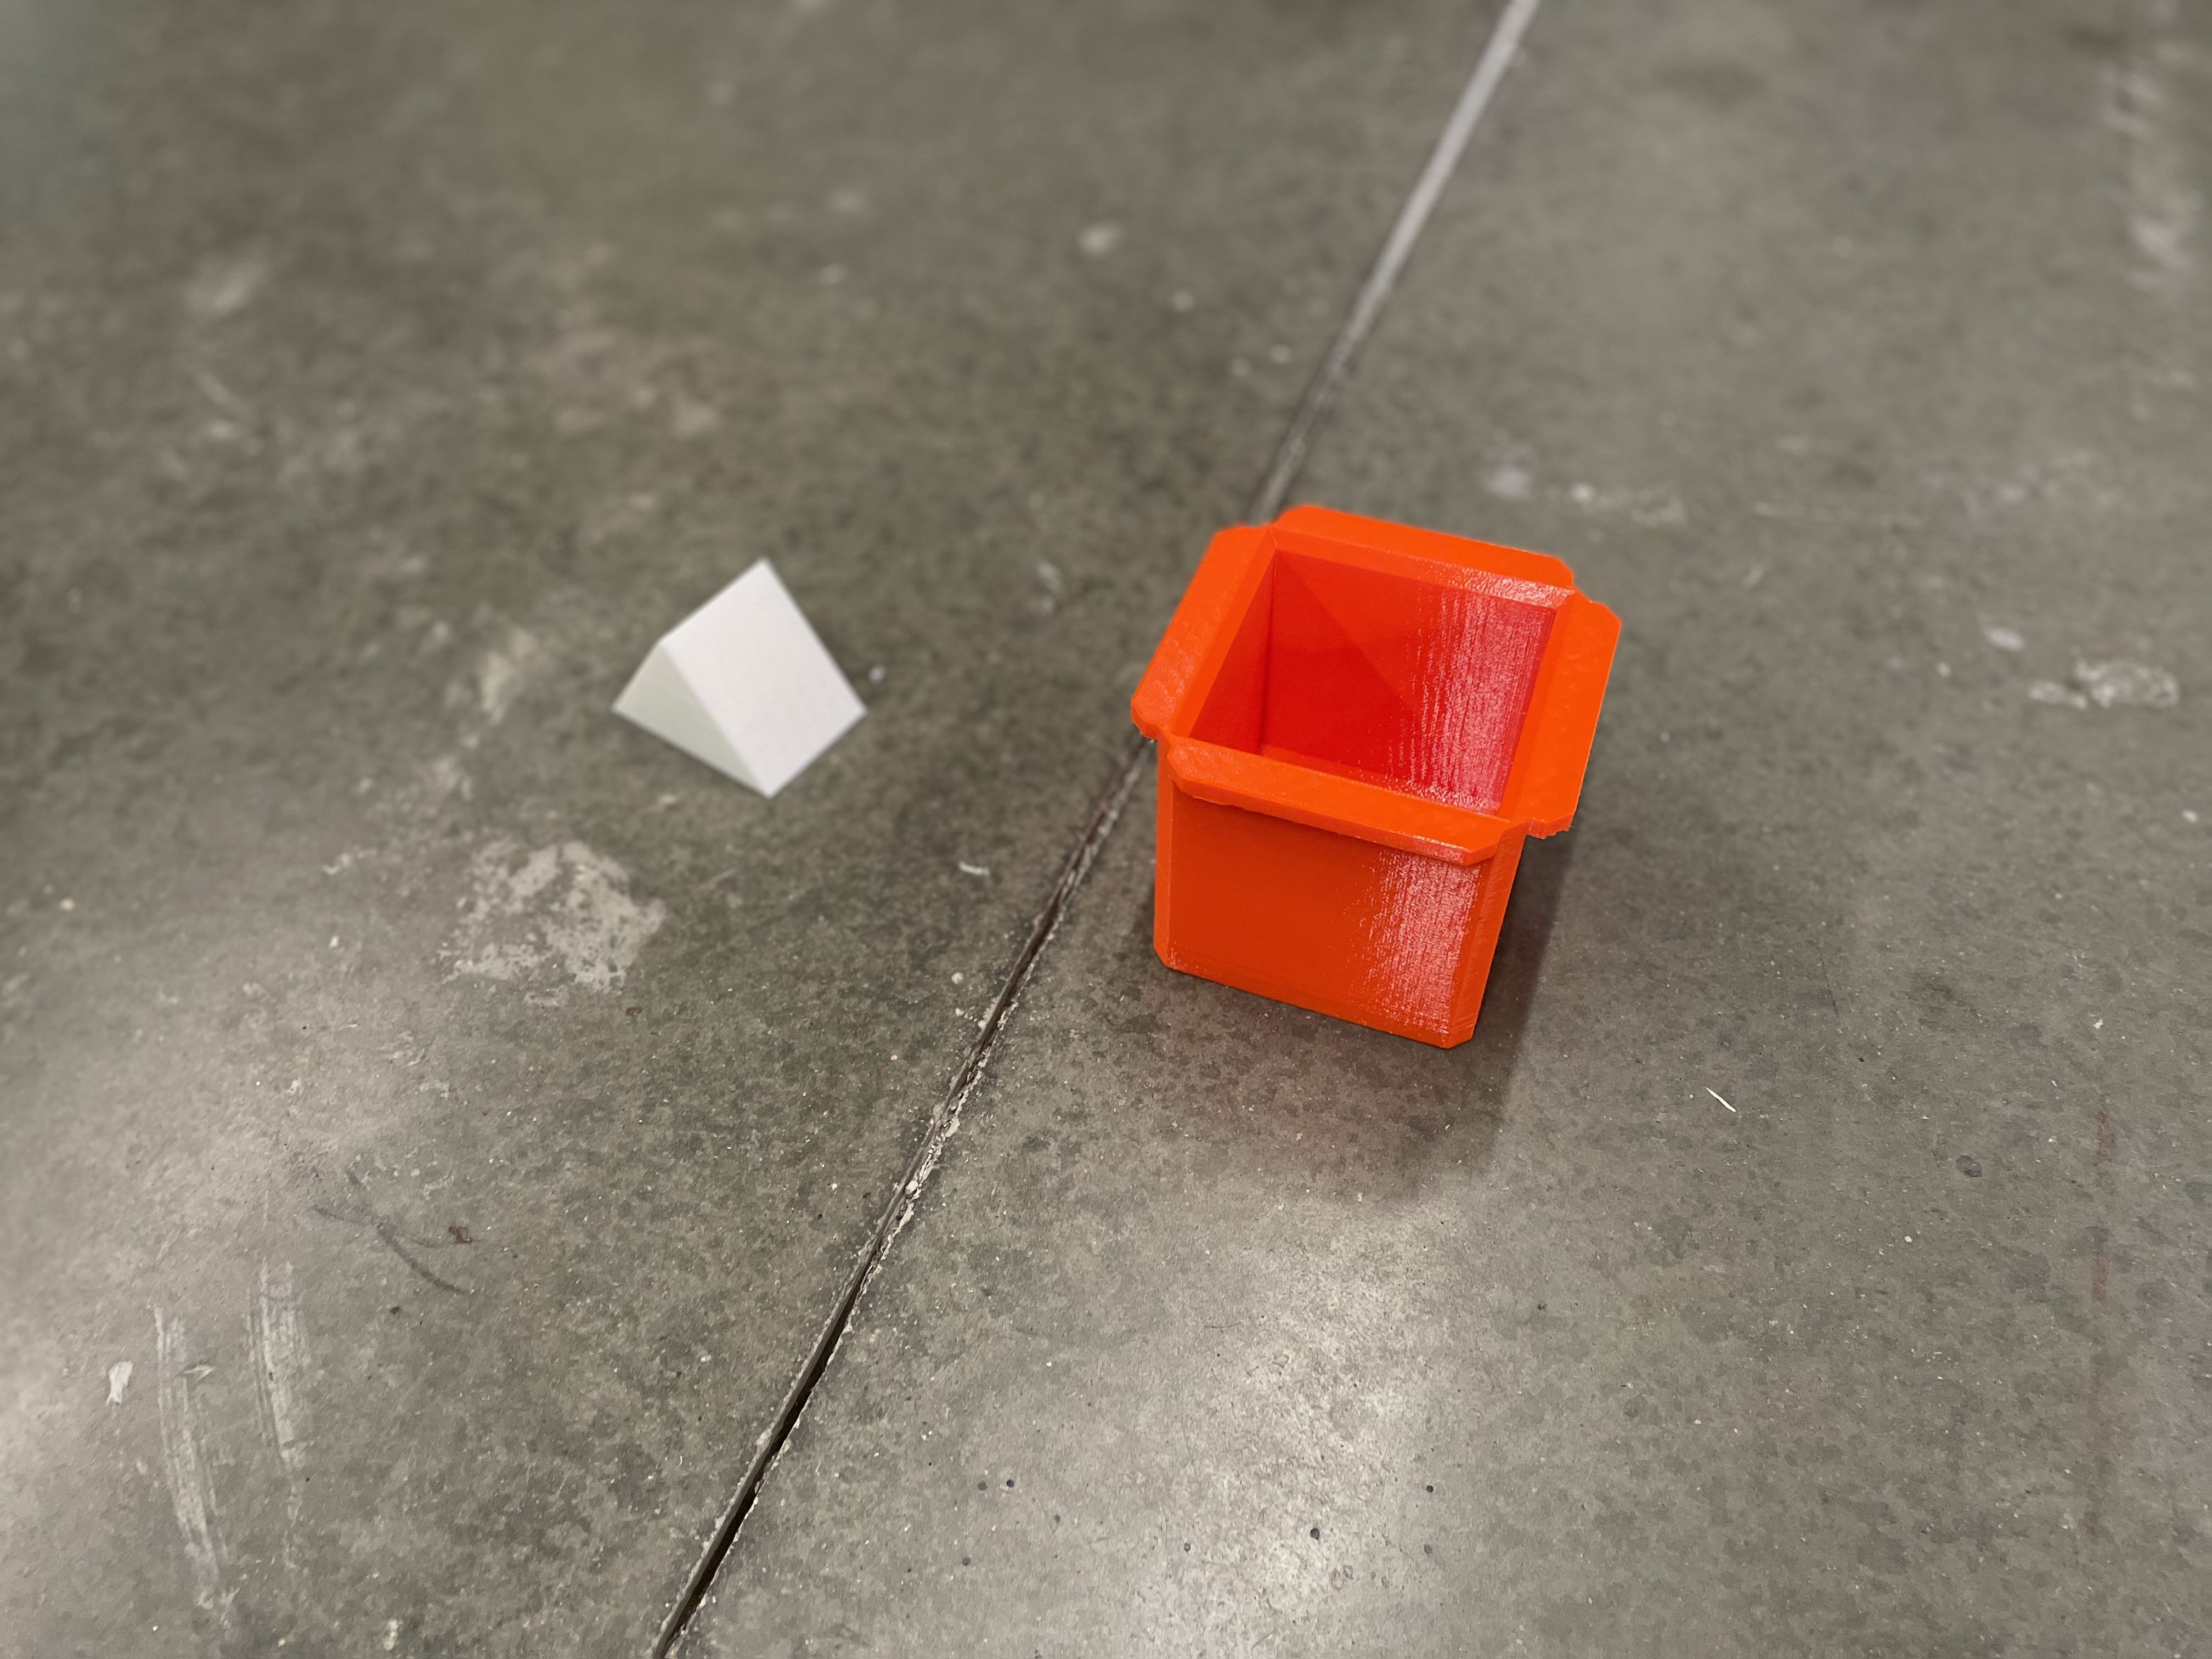payload1: (1118, 484, 1634, 1066)
payload2: (601, 538, 892, 849)
